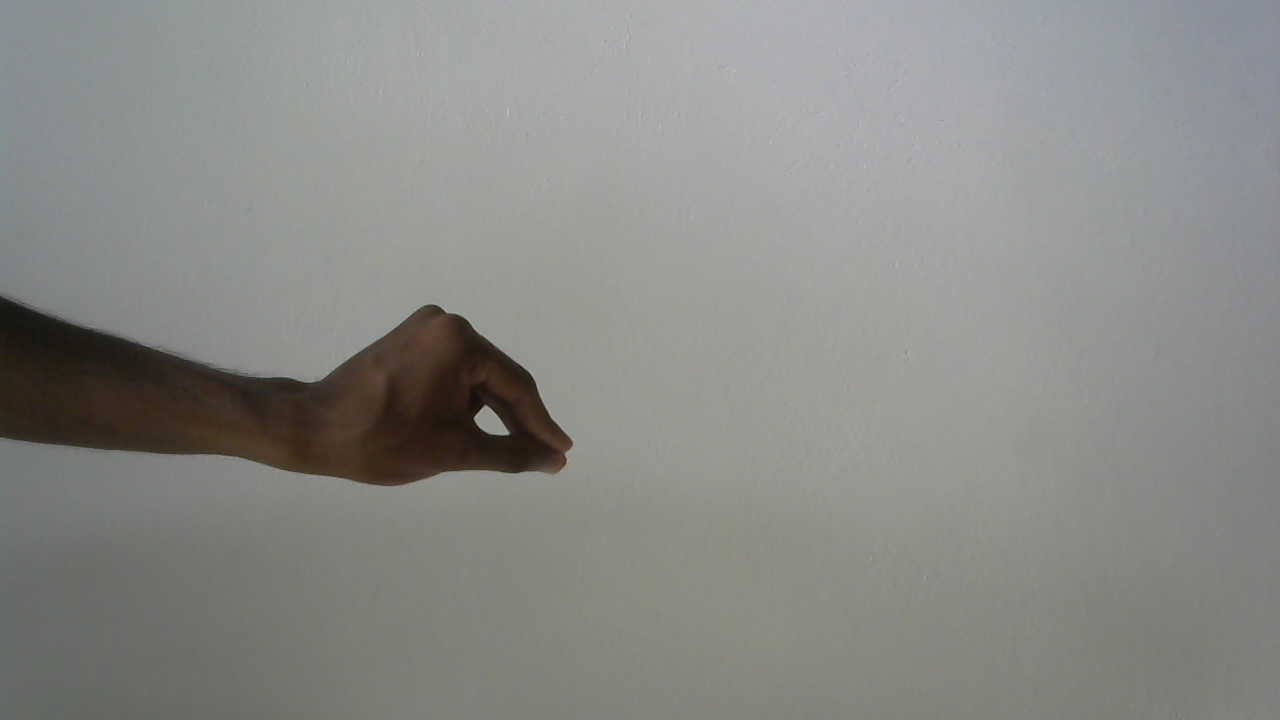no: (300, 281, 584, 512)
